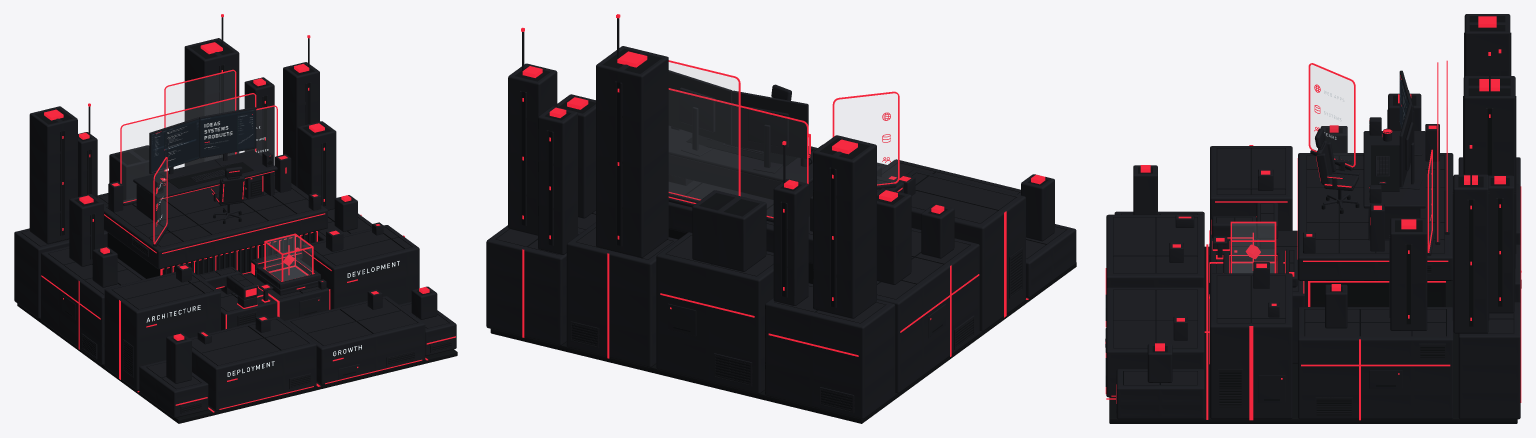
Rendered from about-workspace.glb.
3 views of the same model, side by side, from view 1: azimuth 30°, elevation 25°; view 2: azimuth 150°, elevation 25°; view 3: azimuth 270°, elevation 25° (orthographic). The views are drawn at different scales.
Parts seen in each view (by area): view 1: BASE_Static, PLT_Desk, PLT_Architecture, PLT_Deployment, PLT_Growth, PLT_Development, TOWER_01, SCREEN_Main, TOWER_04, DESK_Table, TOWER_09, TOWER_06 (+19 smaller); view 2: BASE_Static, TOWER_04, TOWER_01, PLT_Architecture, SCREEN_Main, PANEL_Center, TOWER_06, TOWER_05, DESK_Table, TOWER_03, TOWER_02, TOWER_07 (+7 smaller); view 3: BASE_Static, PLT_Development, PLT_Desk, PLT_Growth, PLT_Deployment, TOWER_06, TOWER_04, PLT_Architecture, TOWER_09, DESK_Table, TOWER_05, TOWER_01 (+20 smaller).
Boxes of the visible parts, x1,y1,x2,y2 form: BASE_Static: [14, 193, 457, 423]; PLT_Desk: [104, 173, 327, 269]; PLT_Architecture: [104, 271, 220, 390]; PLT_Deployment: [189, 316, 316, 410]; PLT_Growth: [284, 296, 425, 385]; PLT_Development: [301, 225, 419, 309]; TOWER_01: [29, 106, 77, 243]; SCREEN_Main: [149, 107, 256, 179]; TOWER_04: [184, 14, 239, 166]; DESK_Table: [133, 150, 277, 223]; TOWER_09: [297, 121, 336, 210]; TOWER_06: [283, 35, 319, 186]; BASE_Static: [486, 165, 1076, 423]; TOWER_04: [596, 14, 668, 257]; TOWER_01: [813, 135, 876, 318]; PLT_Architecture: [906, 169, 1025, 331]; SCREEN_Main: [668, 70, 808, 173]; PANEL_Center: [668, 60, 808, 222]; TOWER_06: [508, 27, 557, 235]; TOWER_05: [538, 106, 577, 254]; DESK_Table: [668, 126, 812, 216]; TOWER_03: [692, 190, 766, 271]; TOWER_02: [773, 141, 808, 305]; TOWER_07: [877, 188, 911, 284]; BASE_Static: [1106, 157, 1521, 423]; PLT_Development: [1210, 273, 1292, 419]; PLT_Desk: [1298, 153, 1453, 280]; PLT_Growth: [1105, 287, 1204, 397]; PLT_Deployment: [1105, 214, 1204, 320]; TOWER_06: [1452, 145, 1489, 333]; TOWER_04: [1463, 52, 1516, 268]; PLT_Architecture: [1210, 146, 1292, 231]; TOWER_09: [1389, 218, 1427, 330]; DESK_Table: [1363, 131, 1425, 240]; TOWER_05: [1488, 175, 1515, 313]; TOWER_01: [1464, 14, 1511, 76].
Bounding box in the file's own units: 4.02 × 3.4 × 4.02.
6 materials, 1 textured.
